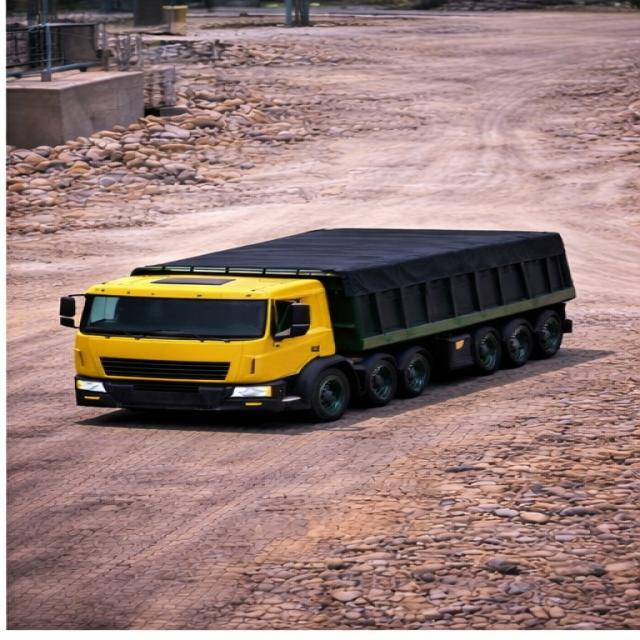trailer: (135, 227, 552, 274)
truck: (55, 223, 584, 416)
